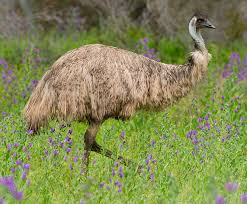Walking: (14, 10, 229, 193)
